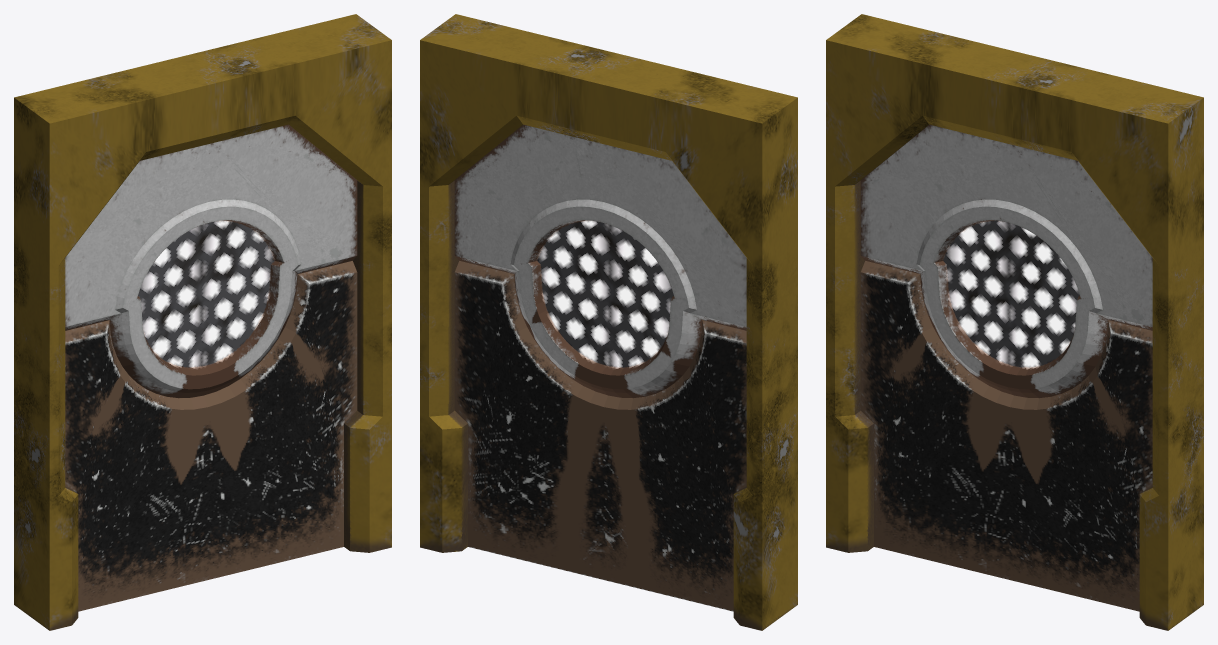
File: Door.fbx
3 views of the same model, side by side, from view 1: azimuth 30°, elevation 25°; view 2: azimuth 150°, elevation 25°; view 3: azimuth 330°, elevation 25° (orthographic).
Parts seen in each view (by area): view 1: Door; view 2: Door; view 3: Door.
Boxes of the visible parts, x1,y1,x2,y2 form: Door: [14, 14, 391, 630]; Door: [420, 14, 797, 630]; Door: [826, 14, 1203, 630].
Bounding box in the file's own units: 199 × 281 × 35.92.
